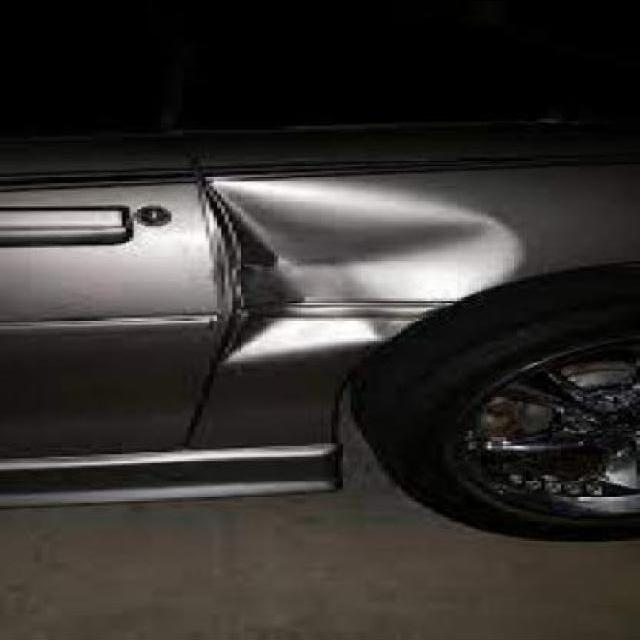quaterpanel-dent: (204, 166, 533, 367)
